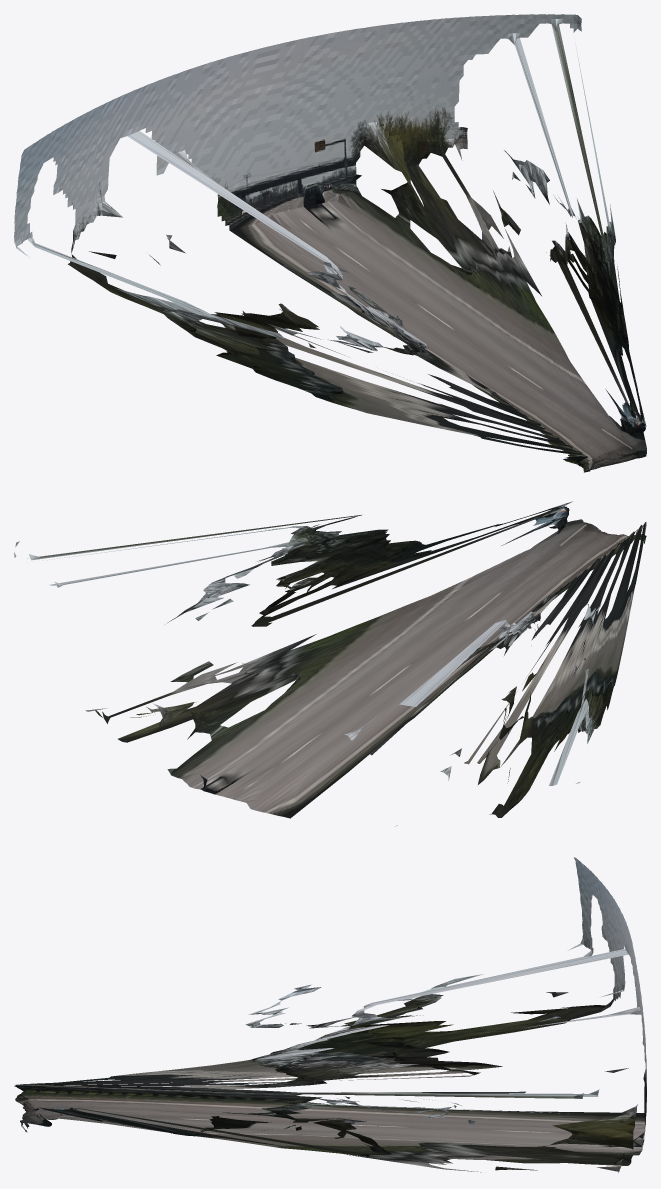
The picture shows the model from 3 angles, top to bottom: view 1: azimuth 30°, elevation 25°; view 2: azimuth 150°, elevation 25°; view 3: azimuth 270°, elevation 25°; orthographic projection. The views are drawn at different scales.
Visible parts, largest first — view 1: defaultobject; view 2: defaultobject; view 3: defaultobject.
Part boxes in pixels (bbox=[...]): defaultobject: bbox=[14, 14, 646, 472]; defaultobject: bbox=[14, 501, 646, 826]; defaultobject: bbox=[14, 857, 646, 1172].
Size of the model in its own units: 40.81 by 12.67 by 44.81.
1 material, 1 textured.
